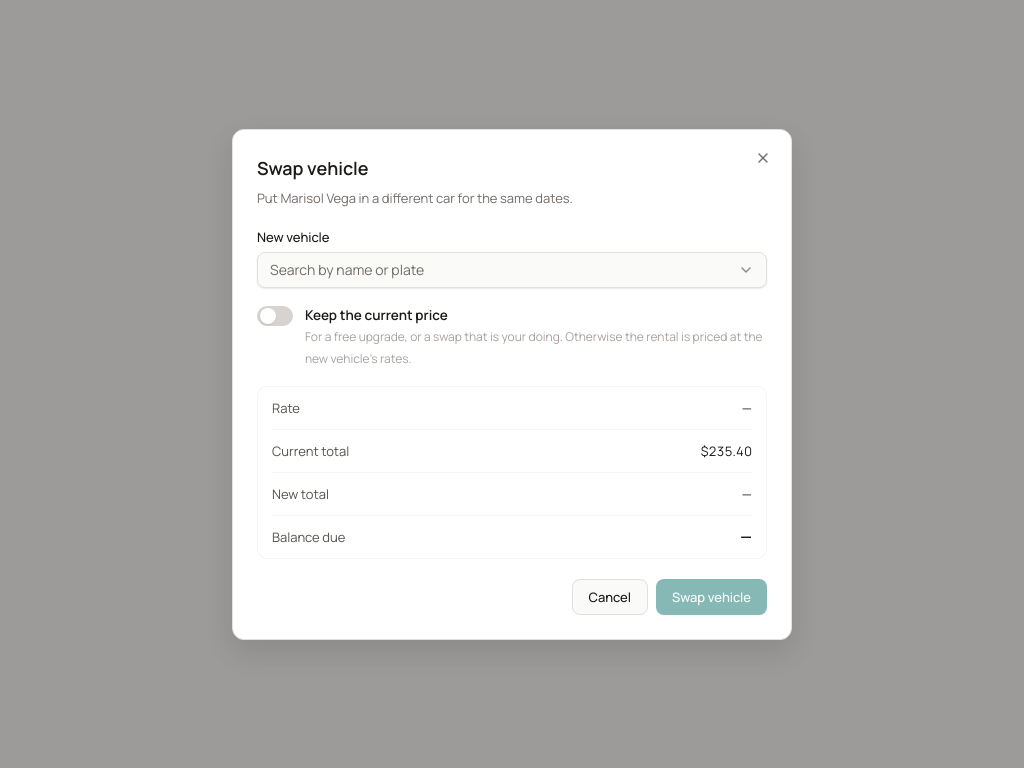
Test case: BookingSwapDialog › goes by the booking’s dates, not by where each car is today
Click the dropdown labelled "New vehicle".
click(500, 270)  # box left=270, top=258, right=730, bottom=280
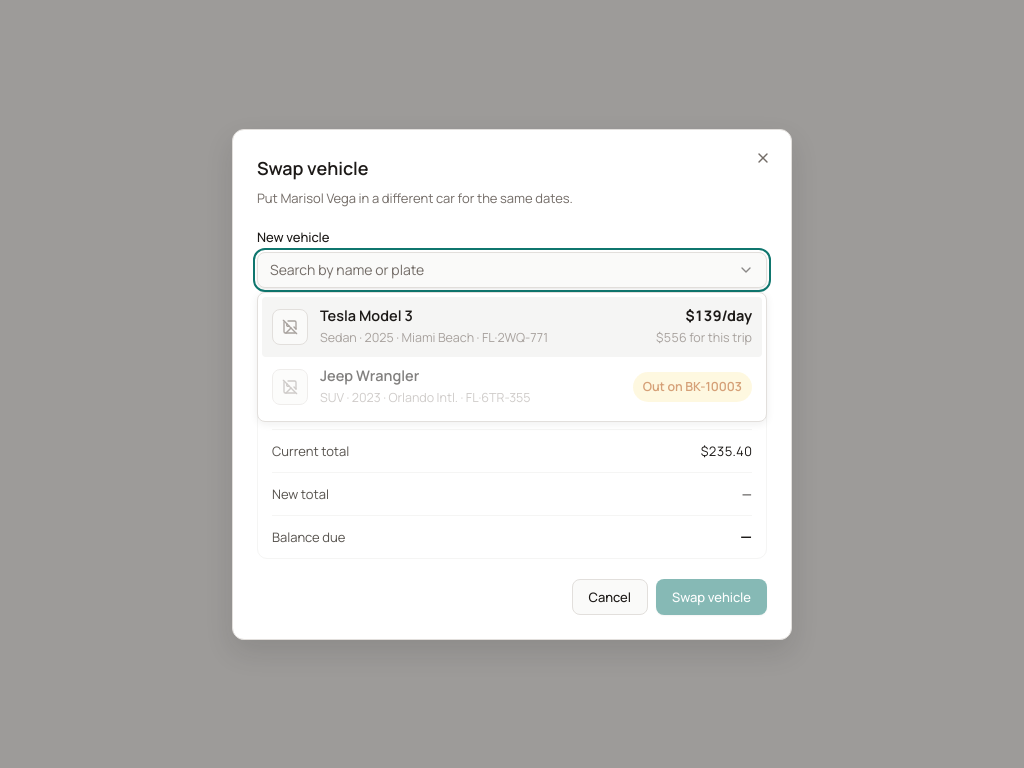
Check: the option "FL·2WQ-771" is enabled, box left=262, top=297, right=762, bottom=357
Check: the option "FL·6TR-355" is disabled, box left=262, top=357, right=762, bottom=417
Check: the option "FL·6TR-355" shows "Out on BK-10003", box left=262, top=357, right=762, bottom=417
